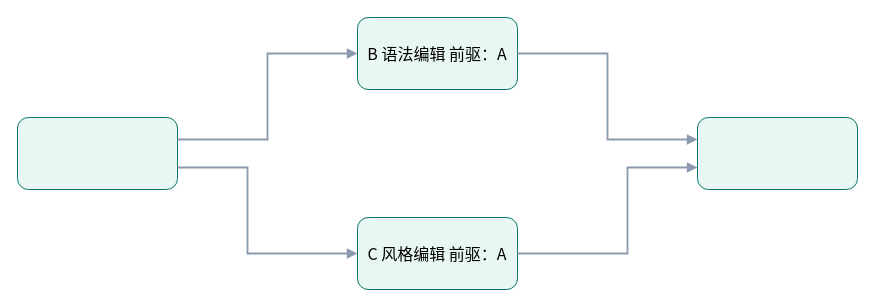
Image size: 875x307. Some labels were removed from this diagram. The box of each missing label's shape, as (x1, y1, x2, y2) in pixels:
A 内容起草 前驱：无: (16, 116, 178, 190)
D 最终整合 前驱：B · C: (696, 116, 858, 190)
